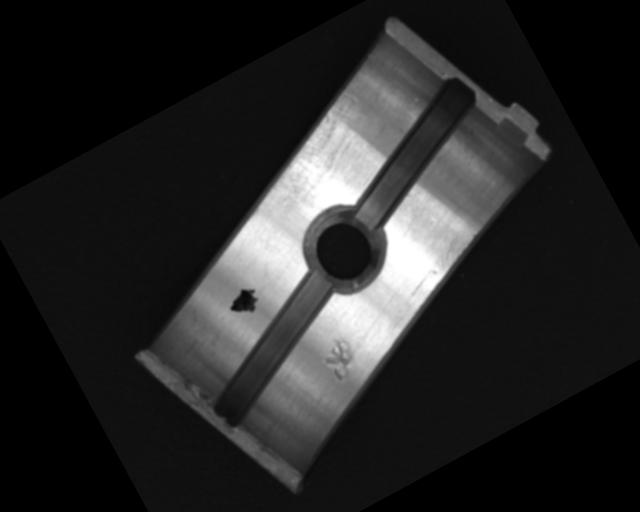blot: (223, 283, 266, 324)
bruise: (313, 330, 364, 386)
gap: (321, 71, 512, 238), (179, 266, 368, 431)
hole: (294, 194, 395, 304)
scratch: (236, 85, 393, 226)
